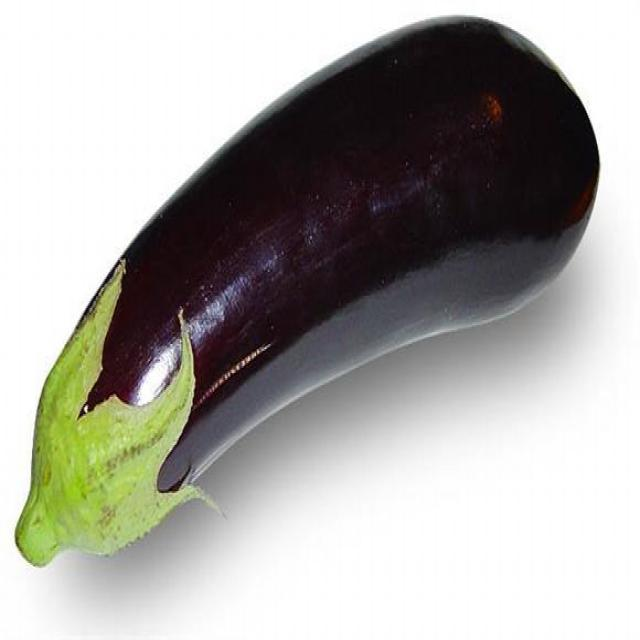eggplant: (21, 15, 608, 577)
